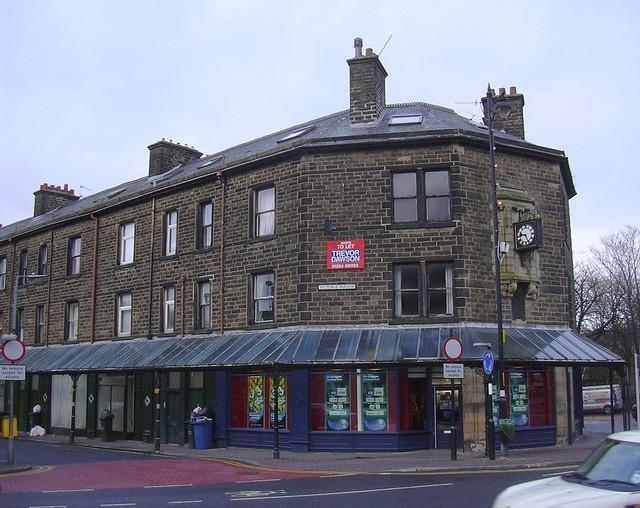car: (494, 430, 639, 508)
truck: (582, 384, 622, 413)
